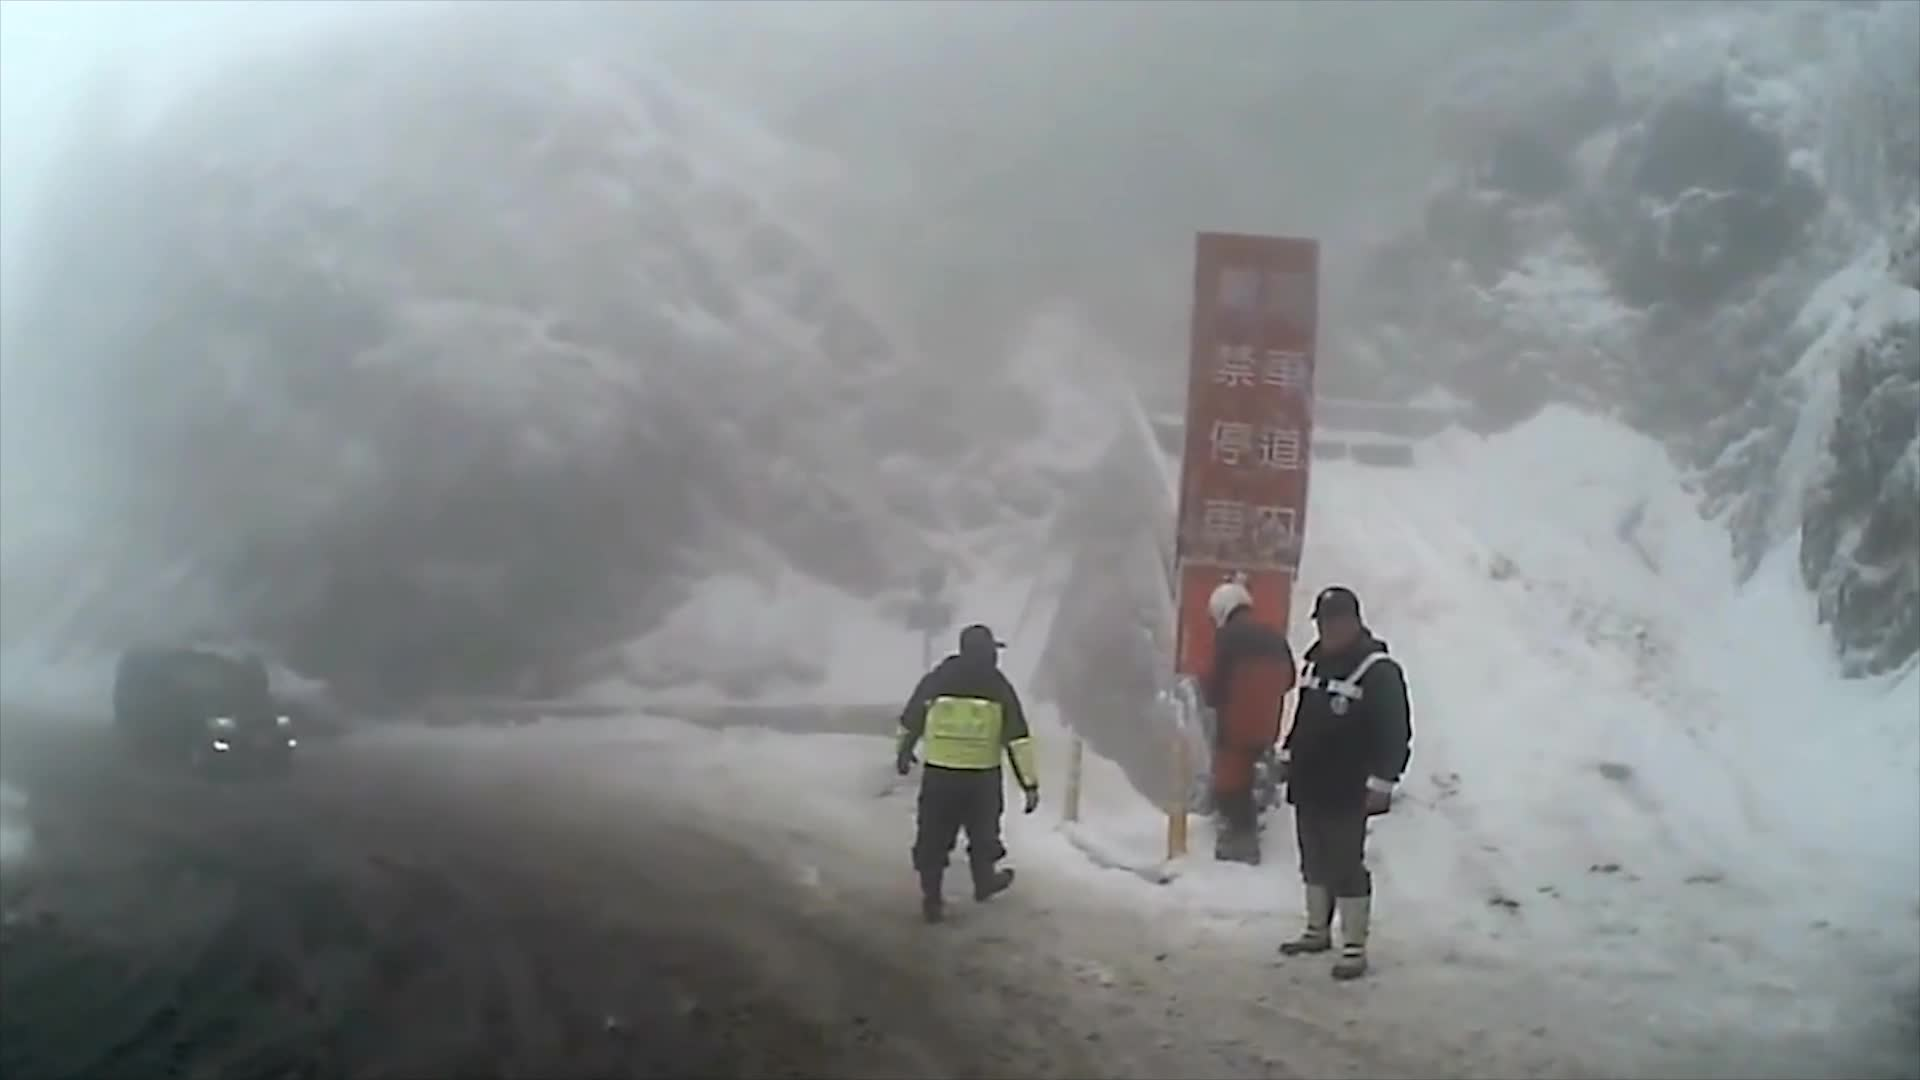pedestrian: (1271, 587, 1403, 988), (886, 623, 1044, 920), (1180, 590, 1292, 851)
vehicle: (112, 641, 297, 777)
